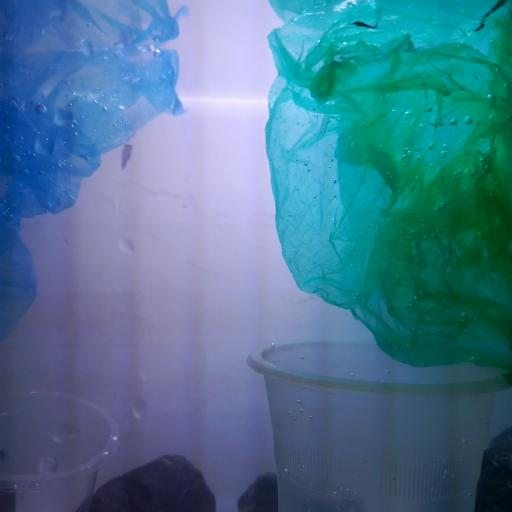plastic_bag: (265, 0, 512, 371), (1, 4, 188, 344)
plastic_cup: (245, 336, 512, 511), (0, 387, 121, 512)
